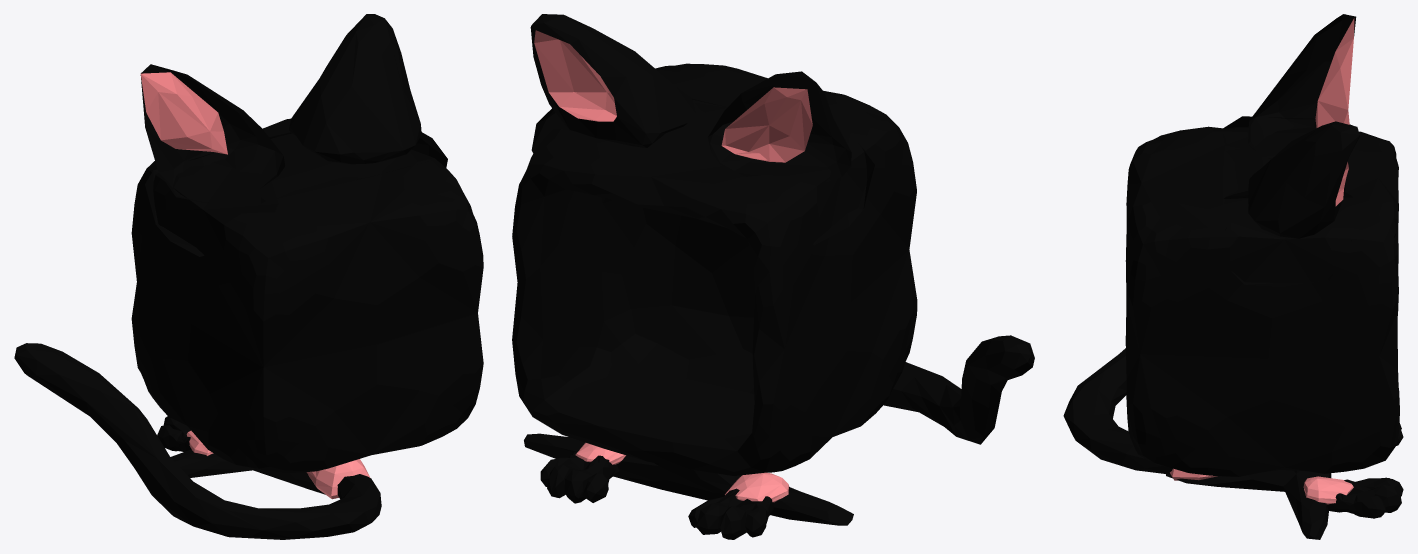
Rendered from nekocom.gltf.
The picture shows the model from 3 angles, left to right: view 1: azimuth 30°, elevation 25°; view 2: azimuth 150°, elevation 25°; view 3: azimuth 270°, elevation 25°; orthographic projection. The views are drawn at different scales.
Visible parts, largest first — view 1: monitor, tail, right ear, left ear, ear band, tail connector, left paw; view 2: monitor, right ear, left ear, tail, left paw, right paw, ear band, paw connector left; view 3: monitor, right ear, left ear, tail, right paw, ear band, paw connector right.
Part boxes in pixels (x1,y1,x2,y2): monitor: (131,118,483,494); tail: (14,343,381,539); right ear: (289,14,421,164); left ear: (140,64,285,202); ear band: (145,132,447,256); tail connector: (306,459,370,499); left paw: (157,416,191,451); monitor: (512,63,917,525); right ear: (530,14,695,147); left ear: (707,71,851,186); tail: (883,335,1034,444); left paw: (688,488,774,539); right paw: (540,450,618,503); ear band: (531,99,874,245); paw connector left: (725,472,789,502); monitor: (1125,126,1399,539); right ear: (1248,121,1359,238); left ear: (1248,14,1356,159); tail: (1063,348,1172,474); right paw: (1327,477,1403,518); ear band: (1222,116,1352,286); paw connector right: (1303,476,1353,504).
Bounding box in the file's own units: 3.6 × 3.24 × 2.46.
